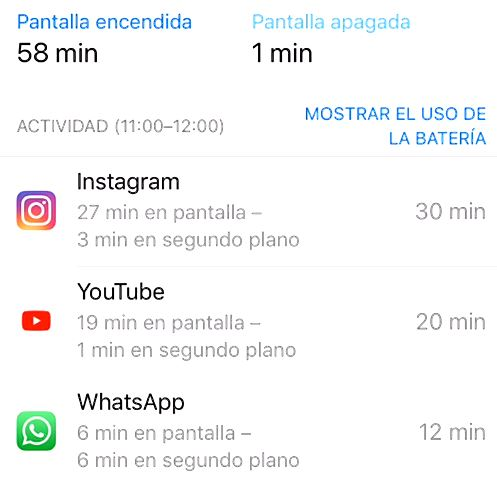activity: (11, 110, 238, 142)
app: (11, 166, 497, 255), (7, 273, 493, 362), (5, 392, 491, 481)
